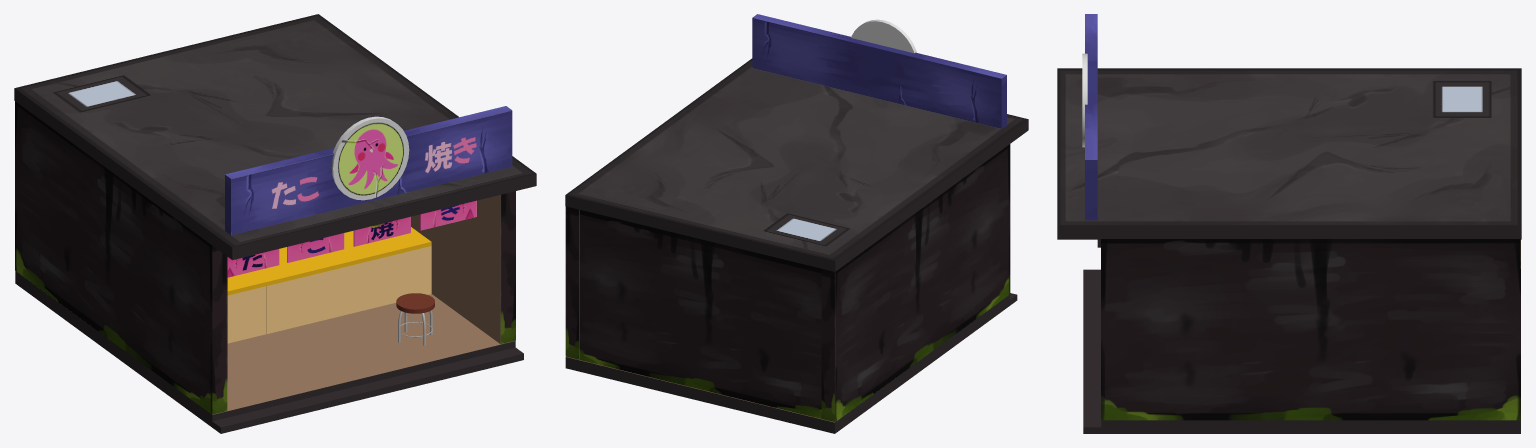
Rendered from Takoyaki_Shop.fbx.
3 views of the same model, side by side, from view 1: azimuth 30°, elevation 25°; view 2: azimuth 150°, elevation 25°; view 3: azimuth 270°, elevation 25° (orthographic). The views are drawn at different scales.
Visible parts, largest first — view 1: Roof, Wall_SIde.002, Floor/Ground, Roof.001, Table, Wall_SIde.001, Sign, TableDoorFront, Name_Curtin.001, Name_Curtin.003, Name_Curtin.002, Name_Curtin (+2 smaller); view 2: Roof, Wall_back, Wall_SIde.002, Roof.001, Floor/Ground, Wall_SIde.001, Sign; view 3: Roof, Wall_SIde.001, Floor/Ground, Roof.001.
Part boxes in pixels (<box>): Roof: <box>14,14,536,259</box>; Wall_SIde.002: <box>15,101,227,414</box>; Floor/Ground: <box>15,271,523,433</box>; Roof.001: <box>225,106,512,235</box>; Table: <box>252,227,431,334</box>; Wall_SIde.001: <box>411,191,515,344</box>; Sign: <box>331,116,409,200</box>; TableDoorFront: <box>227,286,265,343</box>; Name_Curtin.001: <box>287,233,344,262</box>; Name_Curtin.003: <box>420,200,477,230</box>; Name_Curtin.002: <box>353,216,410,246</box>; Name_Curtin: <box>227,249,279,277</box>; Roof: <box>565,58,1028,271</box>; Wall_back: <box>579,209,842,422</box>; Wall_SIde.002: <box>821,144,1010,421</box>; Roof.001: <box>752,14,1006,128</box>; Floor/Ground: <box>565,293,1017,433</box>; Wall_SIde.001: <box>565,206,579,359</box>; Sign: <box>851,19,916,53</box>; Roof: <box>1057,68,1521,247</box>; Wall_SIde.001: <box>1101,239,1520,420</box>; Floor/Ground: <box>1083,269,1520,433</box>; Roof.001: <box>1085,14,1097,220</box>.
Bounding box in the file's own units: 522 × 457 × 649.
